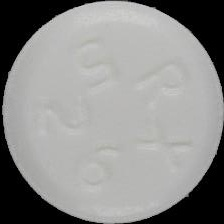21695-499: (0, 0, 224, 224)
